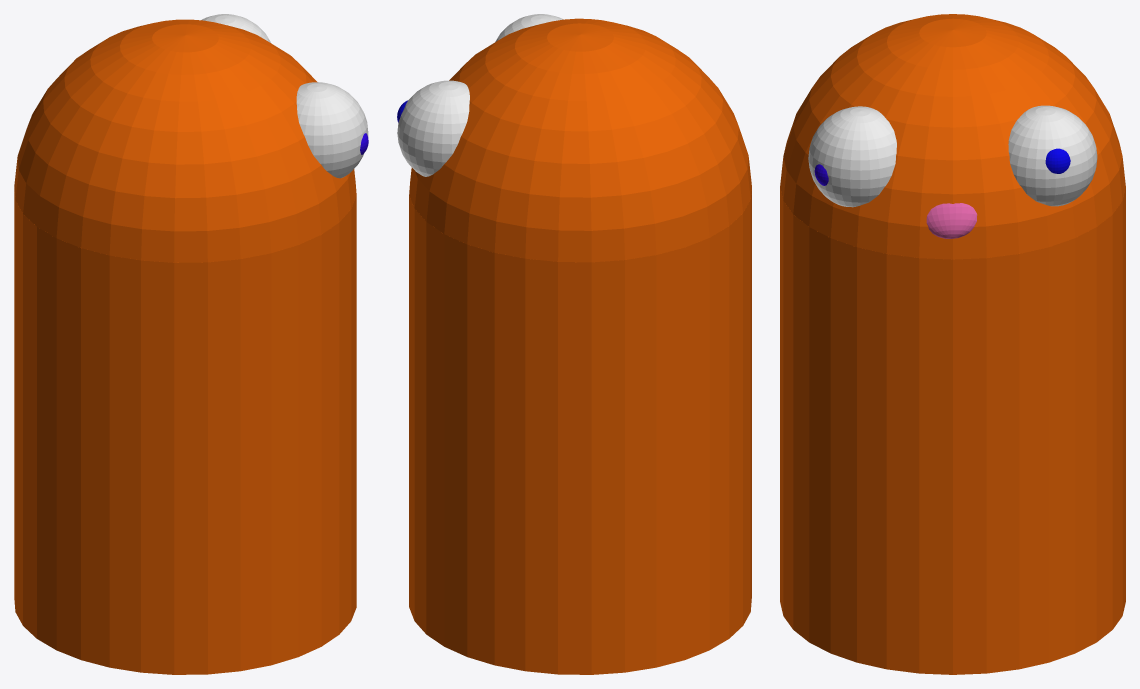
File: mole.fbx
3 views of the same model, side by side, from view 1: azimuth 30°, elevation 25°; view 2: azimuth 150°, elevation 25°; view 3: azimuth 270°, elevation 25° (orthographic).
Parts seen in each view (by area): view 1: Cylinder, Sphere, Sphere.001; view 2: Cylinder, Sphere.001, Sphere; view 3: Cylinder, Sphere, Sphere.001, Sphere.004, Sphere.003.
Part boxes in pixels (<box>): Cylinder: <box>14,19,356,674</box>; Sphere: <box>296,82,368,178</box>; Sphere.001: <box>201,14,271,43</box>; Cylinder: <box>409,18,751,674</box>; Sphere.001: <box>397,80,469,176</box>; Sphere: <box>495,14,563,41</box>; Cylinder: <box>780,14,1125,674</box>; Sphere: <box>808,106,896,207</box>; Sphere.001: <box>1008,105,1097,206</box>; Sphere.004: <box>926,203,977,238</box>; Sphere.003: <box>1045,148,1070,173</box>.
Bounding box in the file's own units: 201 × 365 × 200.
